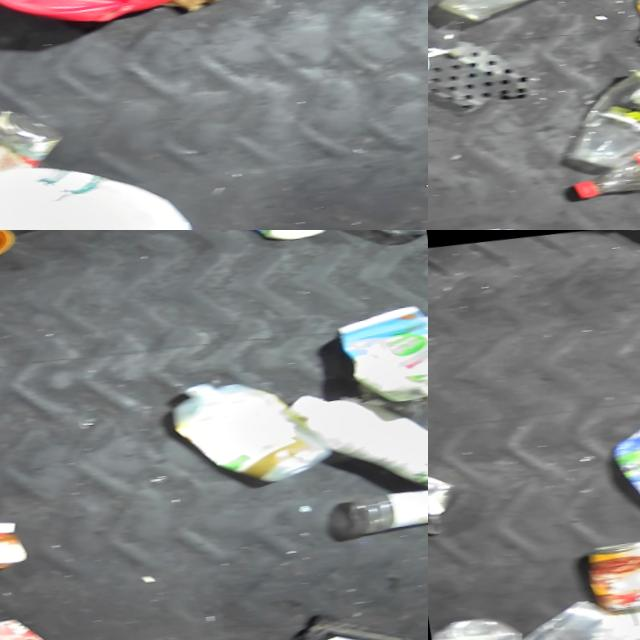can: (582, 529, 640, 619), (428, 607, 538, 640), (428, 468, 472, 535)
milk_jug: (166, 364, 334, 492), (0, 141, 197, 230), (335, 296, 428, 414)
non_white_jug: (0, 0, 191, 38)
plastic_bottle: (556, 119, 640, 211)
